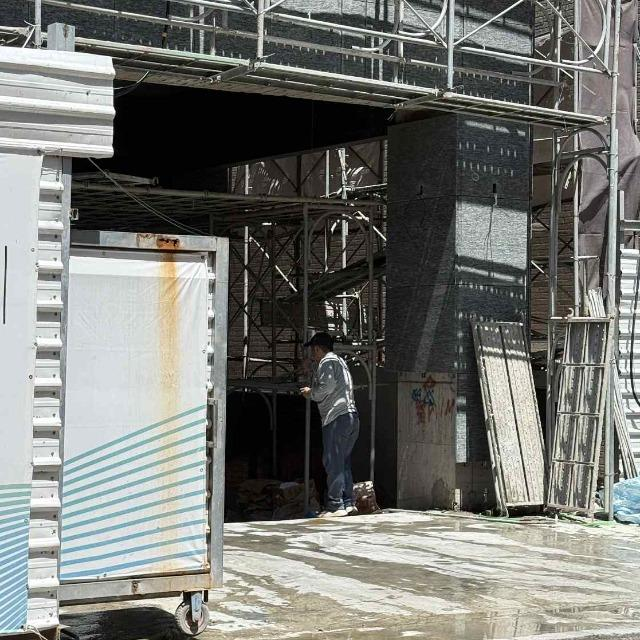NoHelmet: (302, 330, 334, 359)
NoVest: (312, 353, 361, 425)
